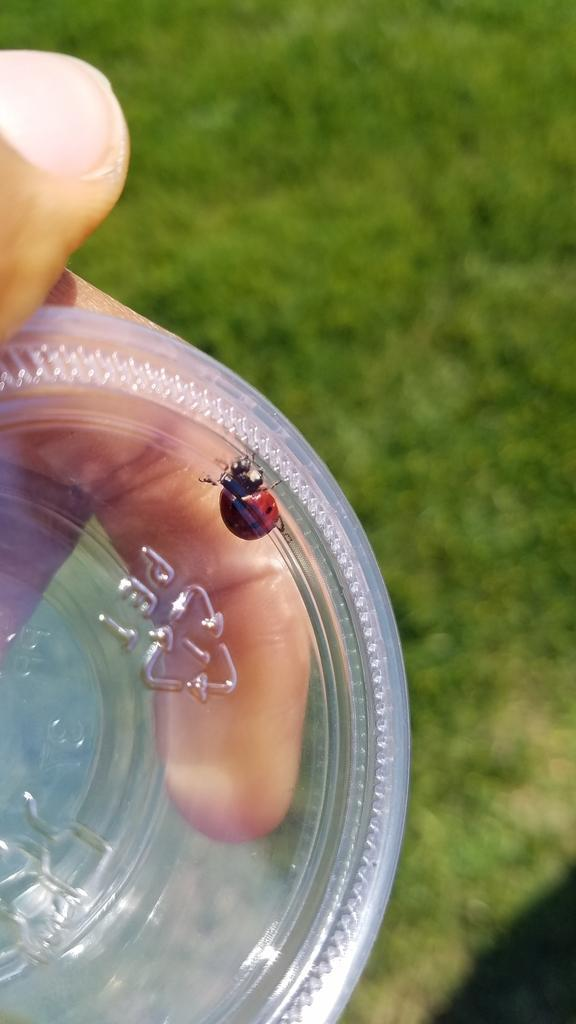ladybug: (198, 450, 293, 544)
